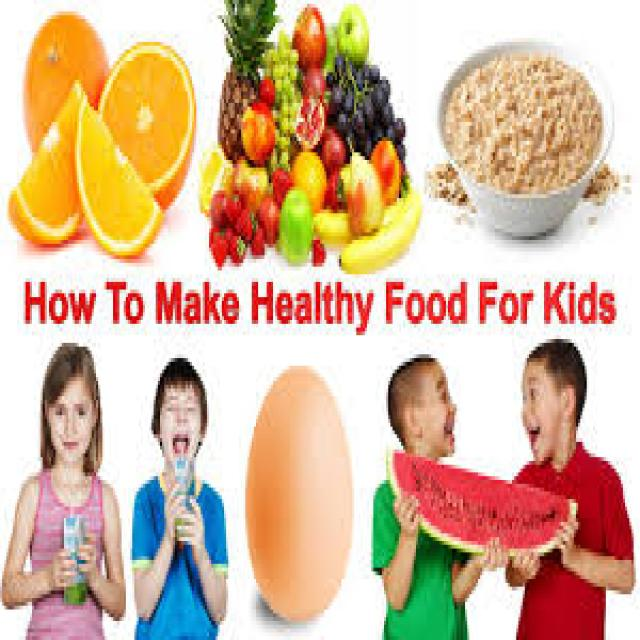Organik: (208, 0, 420, 266), (21, 8, 192, 251), (242, 362, 352, 618), (384, 445, 575, 573), (448, 62, 586, 186)
